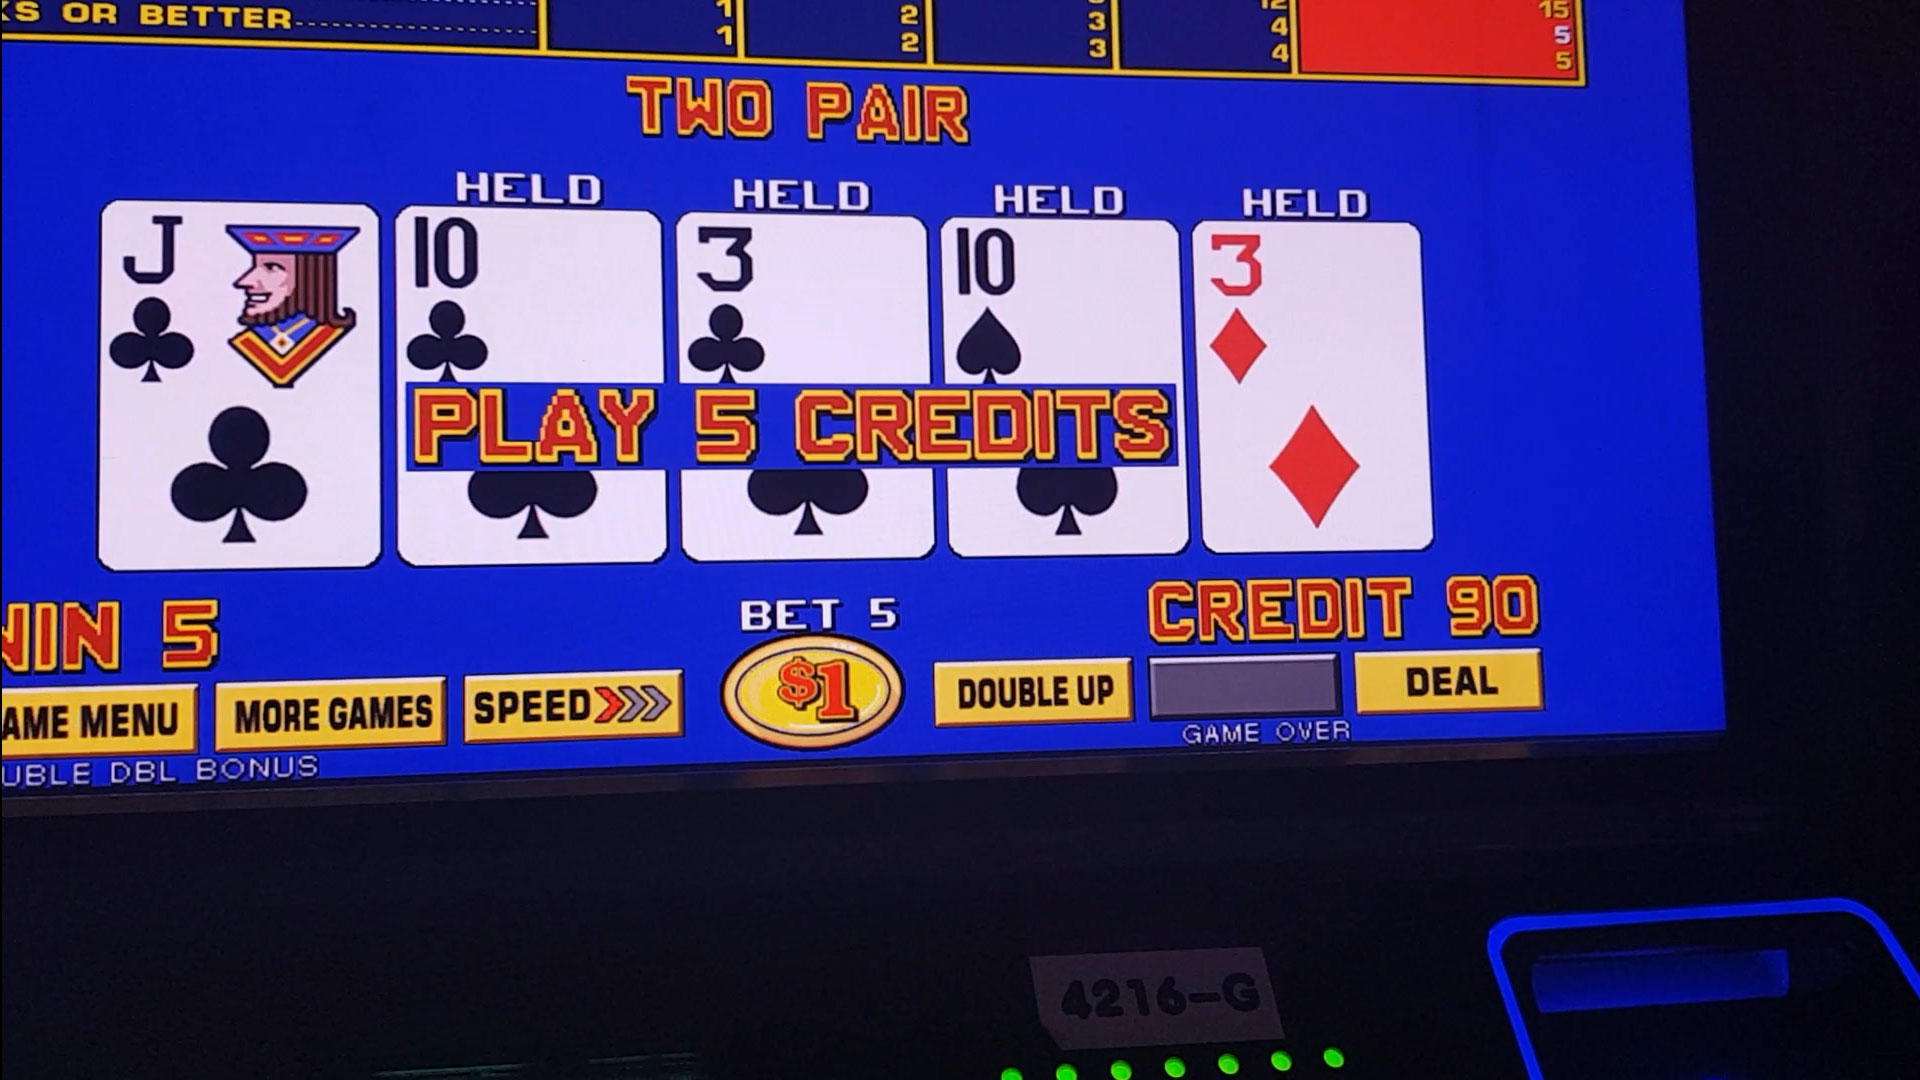C3: (683, 218, 924, 378)
CJ: (107, 204, 376, 386)
CT: (404, 211, 657, 378)
D3: (1201, 222, 1414, 384)
ST: (949, 228, 1172, 378)
